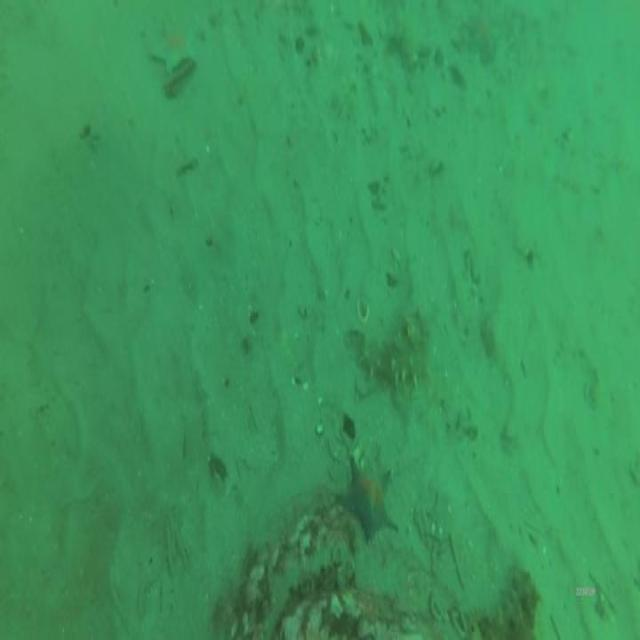holothurian: (361, 301, 433, 394), (476, 561, 543, 640)
starfish: (337, 454, 402, 548), (145, 14, 202, 79)
